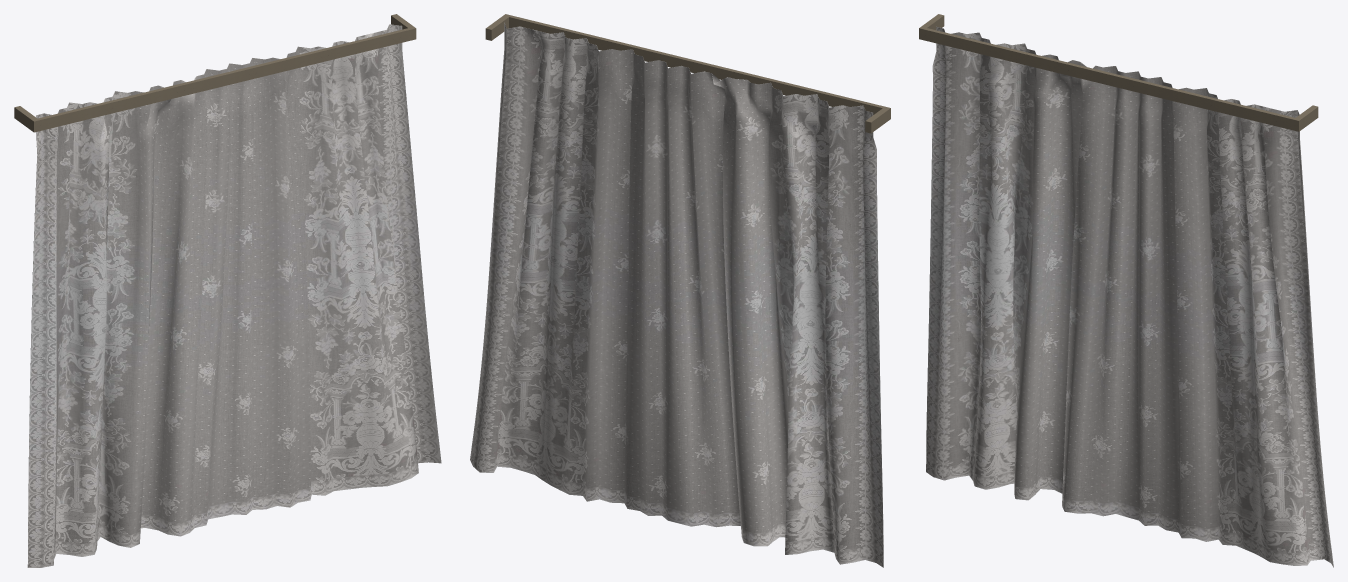
Rendered from Curtain03.FBX.
The picture shows the model from 3 angles, left to right: view 1: azimuth 30°, elevation 25°; view 2: azimuth 150°, elevation 25°; view 3: azimuth 330°, elevation 25°; orthographic projection.
Parts seen in each view (by area): view 1: Curtain03, Curtain03m; view 2: Curtain03, Curtain03m; view 3: Curtain03, Curtain03m.
Boxes of the visible parts, x1=… form: Curtain03: x1=27, y1=24, x2=441, y2=567; Curtain03m: x1=14, y1=14, x2=416, y2=132; Curtain03: x1=470, y1=23, x2=883, y2=567; Curtain03m: x1=485, y1=14, x2=890, y2=133; Curtain03: x1=926, y1=26, x2=1333, y2=567; Curtain03m: x1=919, y1=14, x2=1318, y2=131.
Size of the model in its own units: 143 by 150 by 12.96.
